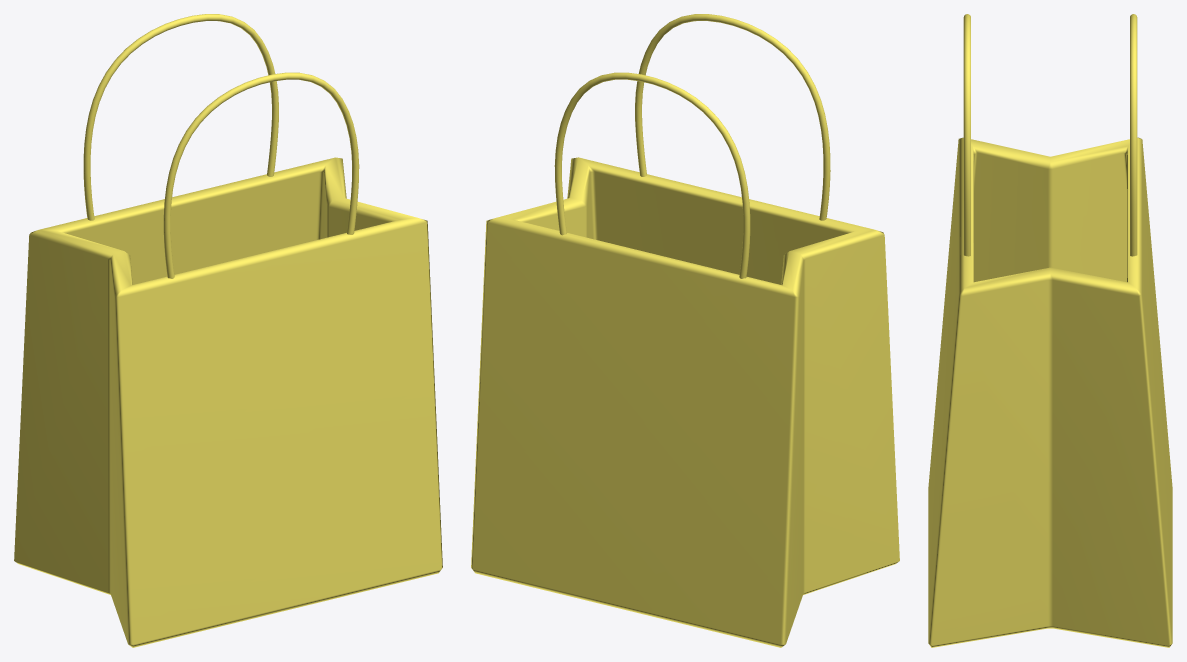
The model's file is Public_10_Package_3.glb.
3 views of the same model, side by side, from view 1: azimuth 30°, elevation 25°; view 2: azimuth 150°, elevation 25°; view 3: azimuth 270°, elevation 25° (orthographic). The views are drawn at different scales.
Parts seen in each view (by area): view 1: Public_10_Package_3; view 2: Public_10_Package_3; view 3: Public_10_Package_3.
Part boxes in pixels (box(x1,y1,x2,y2)): Public_10_Package_3: box(14, 14, 442, 647); Public_10_Package_3: box(471, 14, 899, 647); Public_10_Package_3: box(928, 14, 1172, 647).
Size of the model in its own units: 1.83 by 2.9 by 1.19.
1 material, 1 textured.
